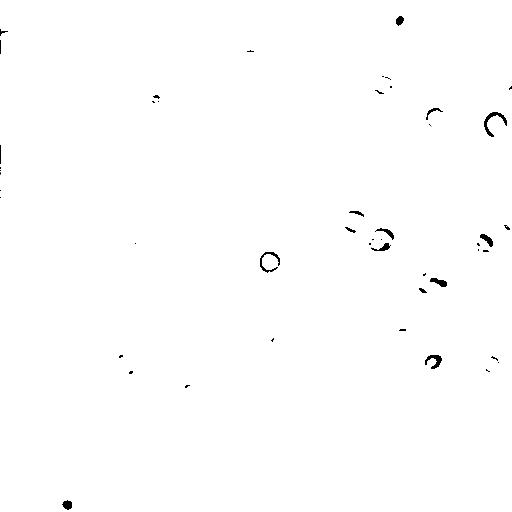micro-algae: (356, 237, 446, 318), (1, 357, 55, 442), (98, 358, 147, 403), (117, 35, 161, 80), (33, 339, 72, 378), (480, 205, 512, 240), (261, 321, 296, 353), (105, 344, 137, 378), (48, 487, 89, 512), (385, 5, 416, 35), (118, 149, 146, 181), (251, 218, 283, 246), (176, 381, 207, 409), (428, 266, 456, 296), (481, 110, 509, 139), (366, 227, 395, 254), (236, 48, 264, 74), (381, 312, 414, 332), (341, 210, 369, 233), (9, 252, 36, 275), (413, 270, 437, 295), (372, 73, 399, 95), (424, 105, 448, 128), (258, 251, 282, 274), (473, 232, 496, 256), (128, 232, 149, 253), (422, 352, 444, 370), (294, 250, 312, 271), (482, 355, 502, 373), (2, 29, 16, 54), (502, 79, 512, 99), (147, 0, 169, 7)
